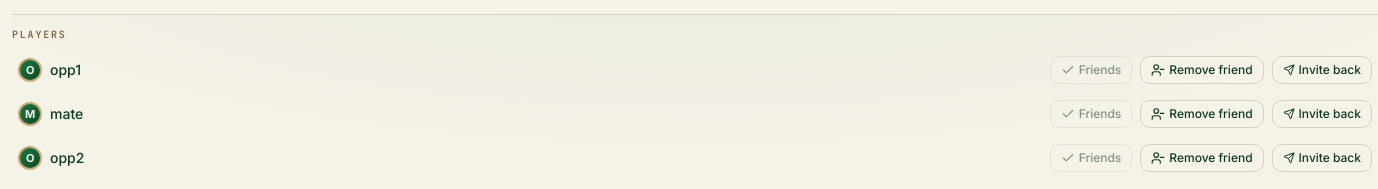
Scenario: MatchPlayerActions › issues a real room invite and confirms it on the row
Click the button with test id "match-player-reinvite-11" at (1322, 70), box [1272,56,1372,84]
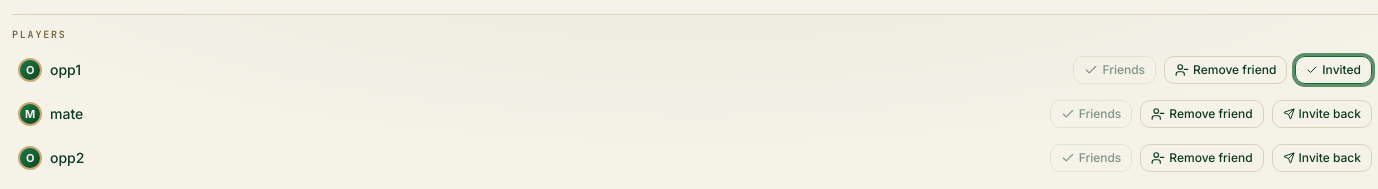
Result: the button with test id "match-player-reinvite-11" reads "Invited" at [1295,56,1372,84]
